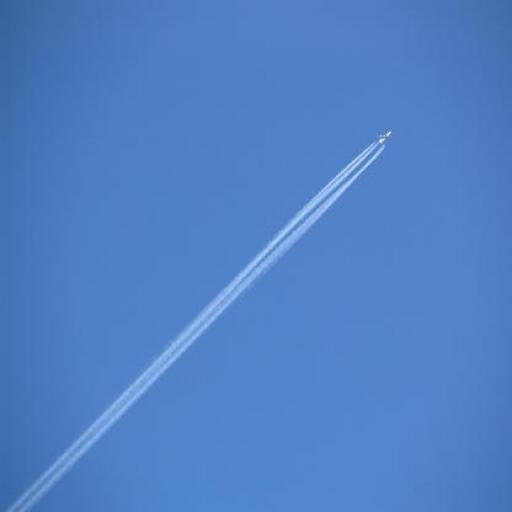aircraft: (375, 130, 395, 144)
